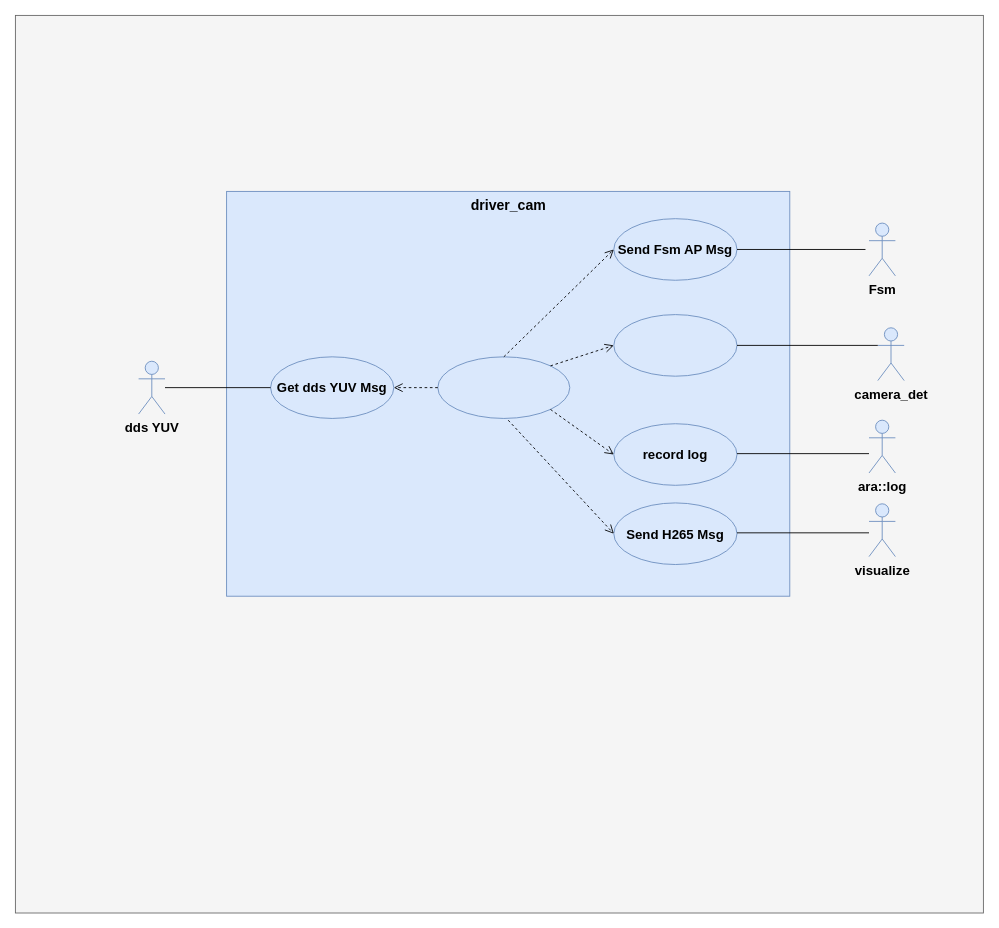
This 999x928 diagram has some shape labels left out. Here are the shapes that lost their labels. From the top down, the box of each, then its label:
(613, 314, 737, 376): Send Camera AP Msg
(437, 356, 570, 418): driver_cam Process
